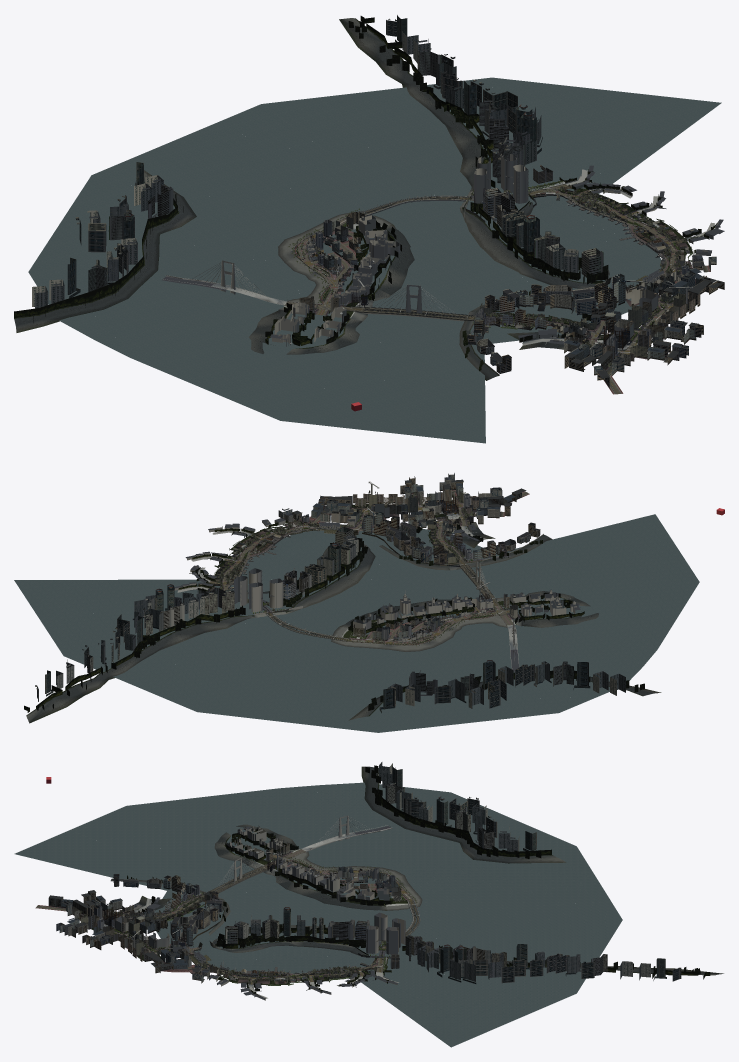
The model's file is track.glb.
The picture shows the model from 3 angles, top to bottom: view 1: azimuth 30°, elevation 25°; view 2: azimuth 150°, elevation 25°; view 3: azimuth 270°, elevation 25°; orthographic projection. The views are drawn at different scales.
Parts seen in each view (by area): view 1: backdrop_grp_027_mdl_010_sub_000, backdrop_grp_027_mdl_027_sub_000, backdrop_grp_027_mdl_017_sub_000, backdrop_grp_027_mdl_016_sub_000, backdrop_grp_027_mdl_018_sub_000, backdrop_grp_027_mdl_008_sub_000, backdrop_grp_027_mdl_002_sub_000, backdrop_grp_027_mdl_013_sub_000, backdrop_grp_027_mdl_025_sub_000, backdrop_grp_027_mdl_020_sub_000, backdrop_grp_027_mdl_023_sub_000, backdrop_grp_027_mdl_011_sub_000 (+55 smaller); view 2: backdrop_grp_027_mdl_010_sub_000, backdrop_grp_027_mdl_027_sub_000, backdrop_grp_027_mdl_017_sub_000, backdrop_grp_027_mdl_016_sub_000, backdrop_grp_027_mdl_018_sub_000, backdrop_grp_027_mdl_008_sub_000, backdrop_grp_027_mdl_013_sub_000, backdrop_grp_027_mdl_025_sub_000, backdrop_grp_027_mdl_023_sub_000, backdrop_grp_027_mdl_020_sub_000, backdrop_grp_027_mdl_011_sub_000, backdrop_grp_027_mdl_019_sub_000 (+58 smaller); view 3: backdrop_grp_027_mdl_010_sub_000, backdrop_grp_027_mdl_027_sub_000, backdrop_grp_027_mdl_016_sub_000, backdrop_grp_027_mdl_002_sub_000, backdrop_grp_027_mdl_017_sub_000, backdrop_grp_027_mdl_018_sub_000, backdrop_grp_027_mdl_013_sub_000, backdrop_grp_027_mdl_020_sub_000, backdrop_grp_027_mdl_023_sub_000, backdrop_grp_027_mdl_008_sub_000, backdrop_grp_027_mdl_019_sub_000, backdrop_grp_027_mdl_026_sub_000 (+47 smaller).
Part boxes in pixels (<box>): backdrop_grp_027_mdl_010_sub_000: <box>219,91,400,158</box>; backdrop_grp_027_mdl_027_sub_000: <box>81,273,261,357</box>; backdrop_grp_027_mdl_017_sub_000: <box>355,305,522,392</box>; backdrop_grp_027_mdl_016_sub_000: <box>192,188,342,260</box>; backdrop_grp_027_mdl_018_sub_000: <box>92,139,293,206</box>; backdrop_grp_027_mdl_008_sub_000: <box>336,129,492,192</box>; backdrop_grp_027_mdl_002_sub_000: <box>472,114,660,176</box>; backdrop_grp_027_mdl_013_sub_000: <box>176,122,347,197</box>; backdrop_grp_027_mdl_025_sub_000: <box>28,223,201,294</box>; backdrop_grp_027_mdl_020_sub_000: <box>383,380,485,443</box>; backdrop_grp_027_mdl_023_sub_000: <box>281,366,407,431</box>; backdrop_grp_027_mdl_011_sub_000: <box>312,168,483,227</box>; backdrop_grp_027_mdl_010_sub_000: <box>130,660,270,717</box>; backdrop_grp_027_mdl_027_sub_000: <box>494,625,656,678</box>; backdrop_grp_027_mdl_017_sub_000: <box>451,539,604,582</box>; backdrop_grp_027_mdl_016_sub_000: <box>322,630,455,691</box>; backdrop_grp_027_mdl_018_sub_000: <box>288,668,378,732</box>; backdrop_grp_027_mdl_008_sub_000: <box>169,621,292,672</box>; backdrop_grp_027_mdl_013_sub_000: <box>236,653,326,722</box>; backdrop_grp_027_mdl_025_sub_000: <box>440,661,579,722</box>; backdrop_grp_027_mdl_023_sub_000: <box>582,548,699,582</box>; backdrop_grp_027_mdl_020_sub_000: <box>554,514,677,556</box>; backdrop_grp_027_mdl_011_sub_000: <box>253,604,342,665</box>; backdrop_grp_027_mdl_019_sub_000: <box>425,618,536,676</box>; backdrop_grp_027_mdl_010_sub_000: <box>503,901,622,956</box>; backdrop_grp_027_mdl_027_sub_000: <box>279,785,383,844</box>; backdrop_grp_027_mdl_016_sub_000: <box>355,851,504,902</box>; backdrop_grp_027_mdl_002_sub_000: <box>375,965,501,1013</box>; backdrop_grp_027_mdl_017_sub_000: <box>112,847,246,900</box>; backdrop_grp_027_mdl_018_sub_000: <box>470,846,599,896</box>; backdrop_grp_027_mdl_013_sub_000: <box>455,883,610,919</box>; backdrop_grp_027_mdl_020_sub_000: <box>14,830,121,877</box>; backdrop_grp_027_mdl_023_sub_000: <box>70,806,182,851</box>; backdrop_grp_027_mdl_008_sub_000: <box>426,920,539,959</box>; backdrop_grp_027_mdl_019_sub_000: <box>299,834,436,868</box>; backdrop_grp_027_mdl_026_sub_000: <box>203,788,279,827</box>.
Bounding box in the file's own units: 52.32 × 3.99 × 55.9.
100 materials, 99 textured.
